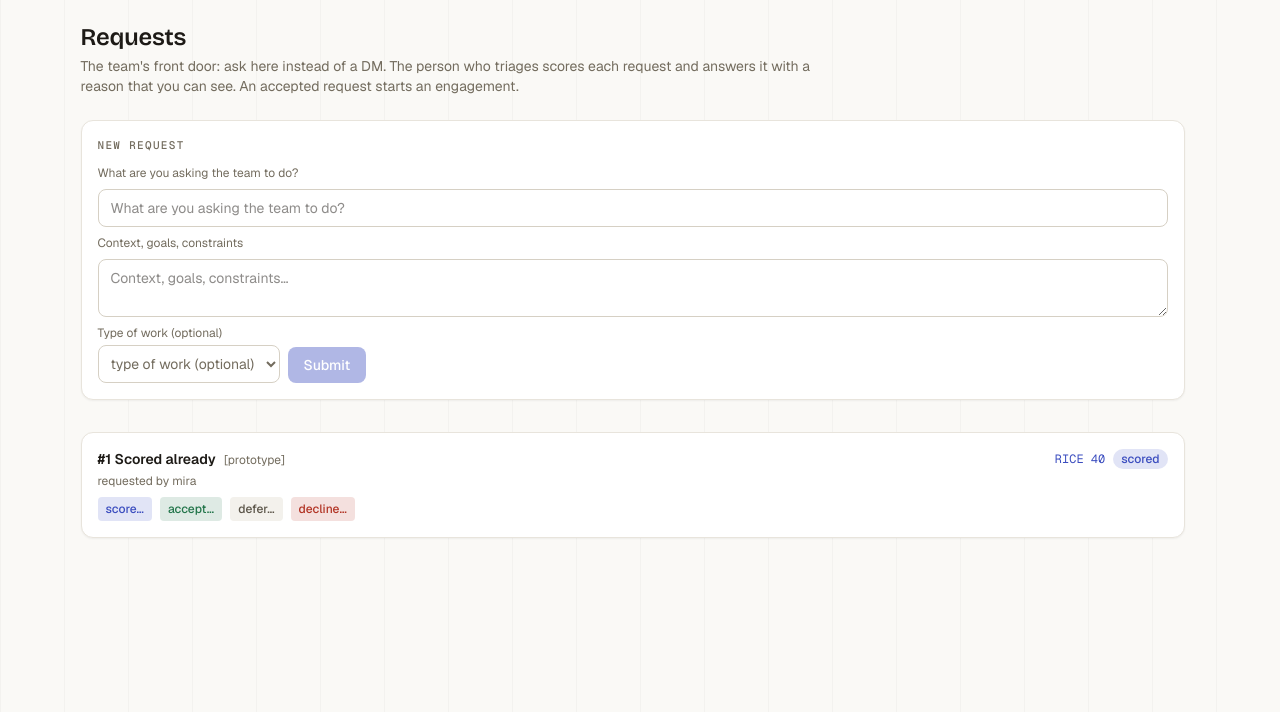
it: the assumed percent stays inside what the service accepts › clamps an emptied field to 1 on blur rather than sending 0
Click the button "accept…" at (191, 509), box [160,497,222,521]
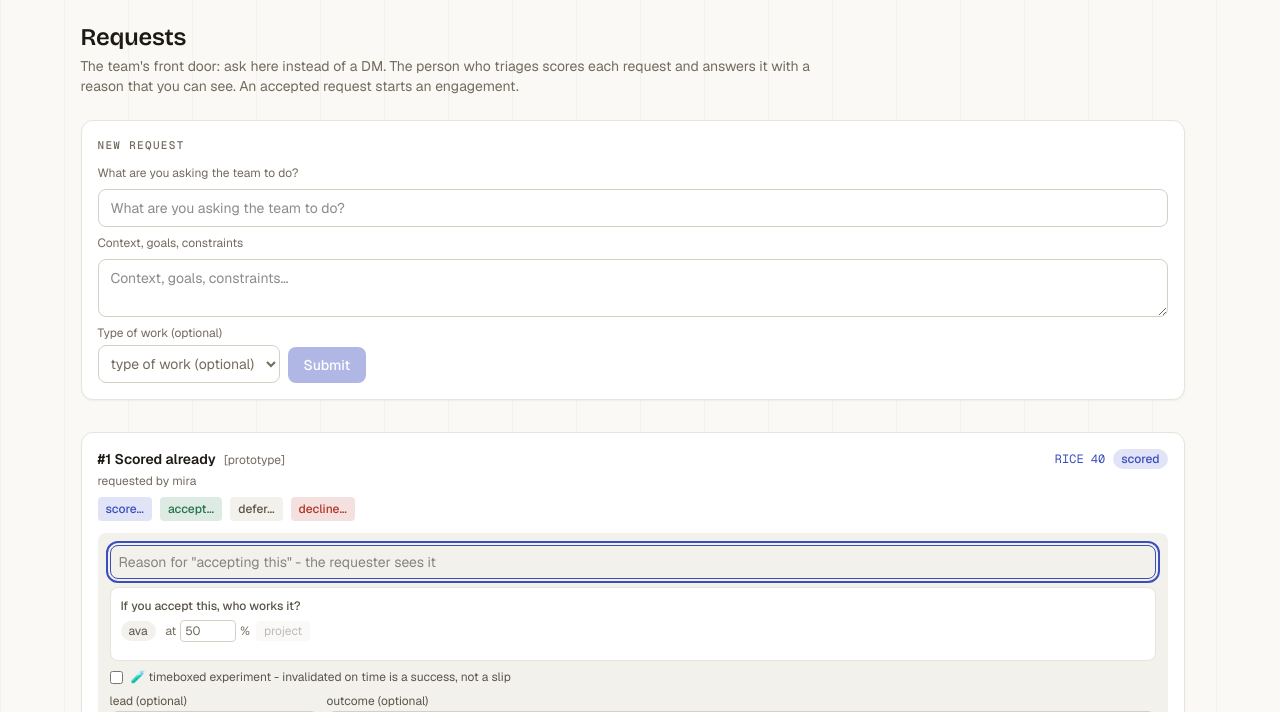
Clear the number field named "Percent of each person" at (208, 631), box [180,620,236,642]
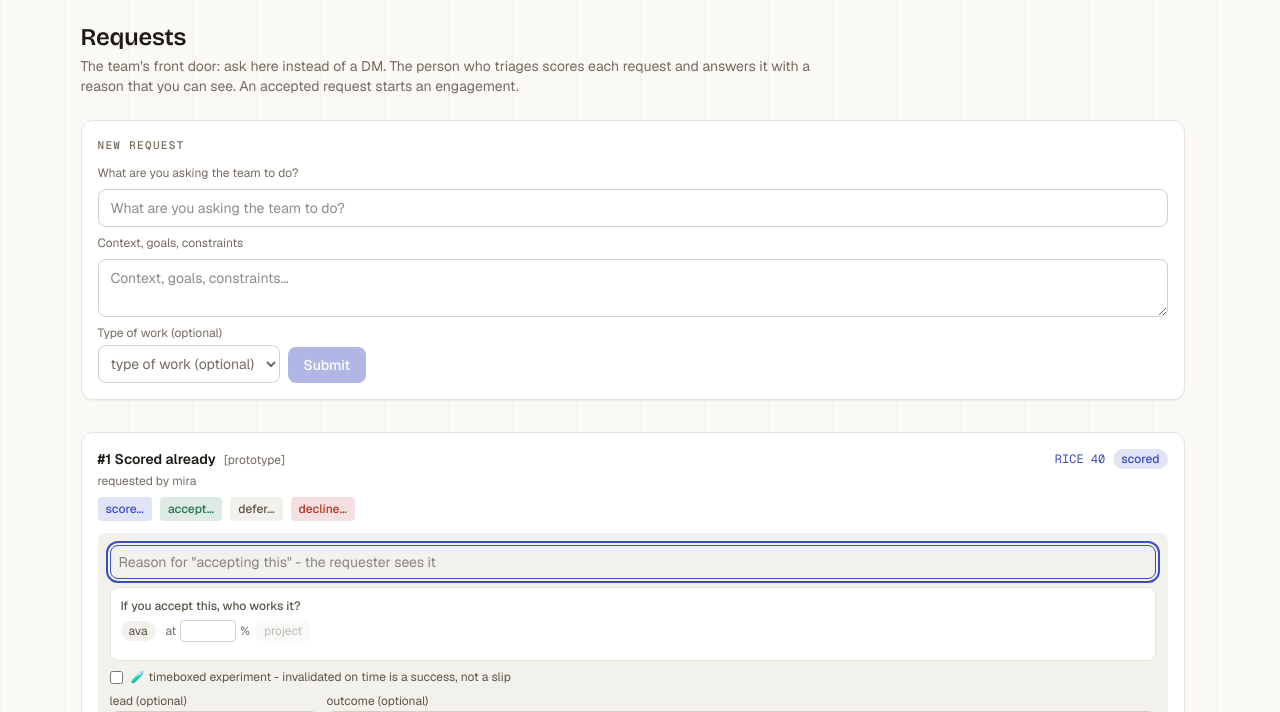
Leave the number field named "Percent of each person", box [180,620,236,642]
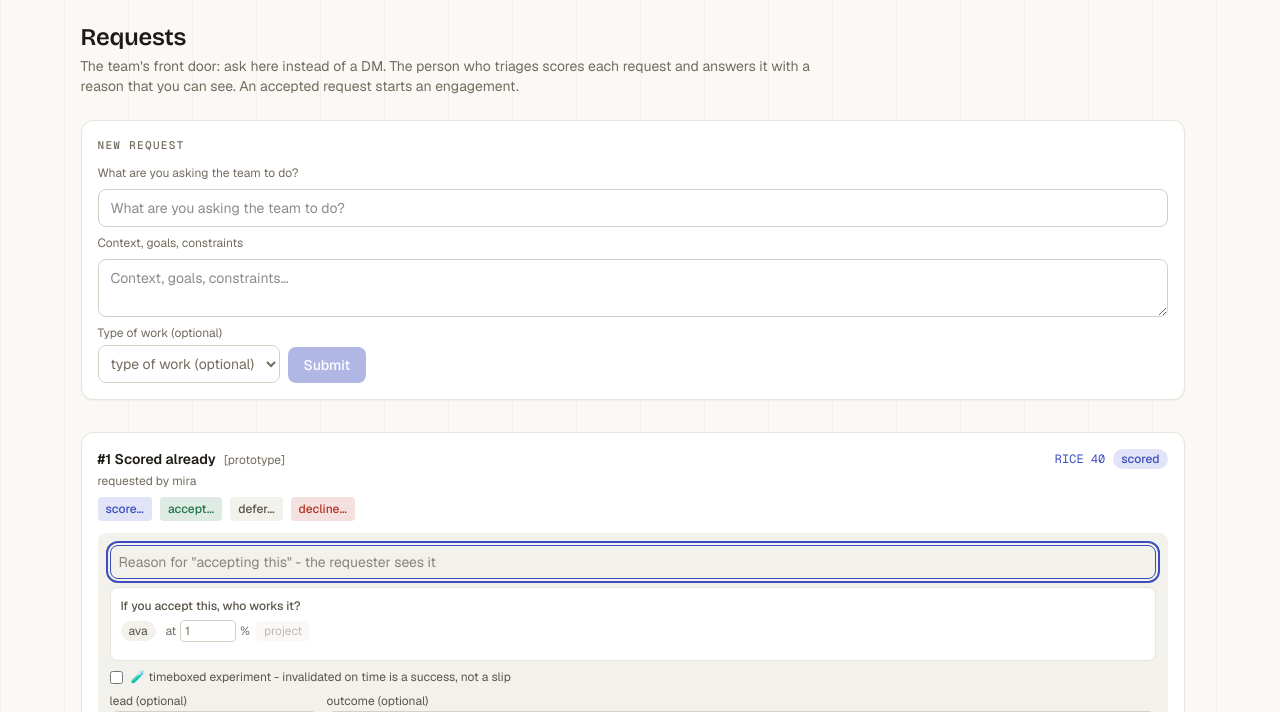
Now the number field named "Percent of each person" holds "1", box [180,620,236,642]
